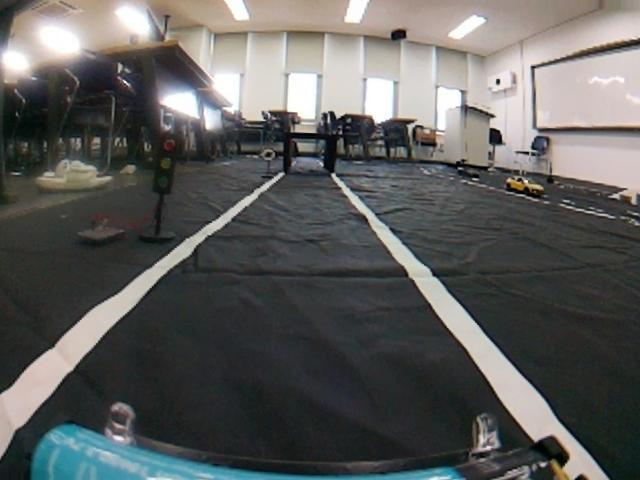sign_tunnel: (262, 147, 276, 161)
straight: (3, 180, 619, 476)
yellow_light: (153, 133, 179, 198)
